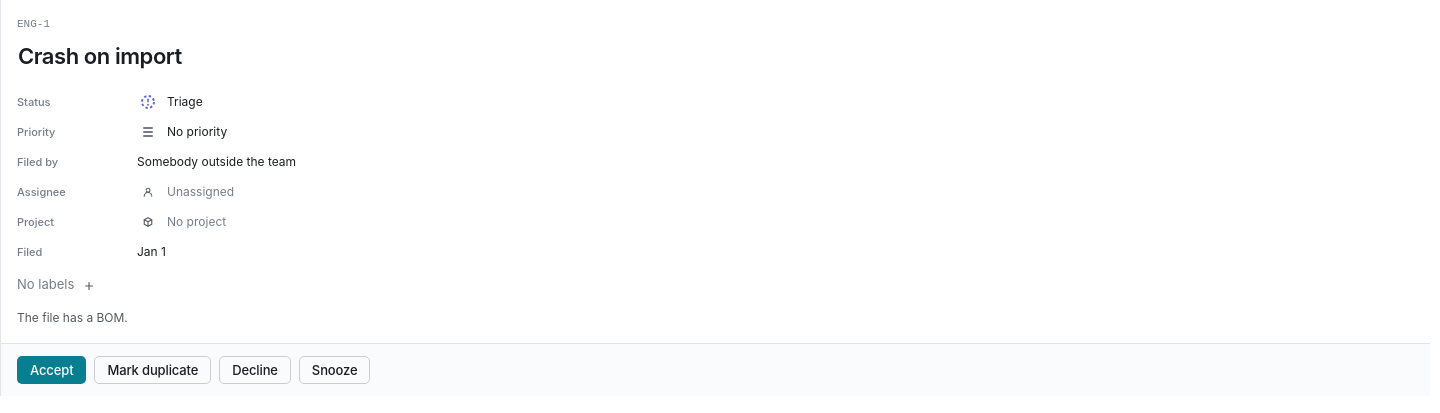
TriagePane › asks for a priority before letting work leave a team that requires one
Click the button "Accept".
click(52, 370)  # box [17, 356, 86, 384]
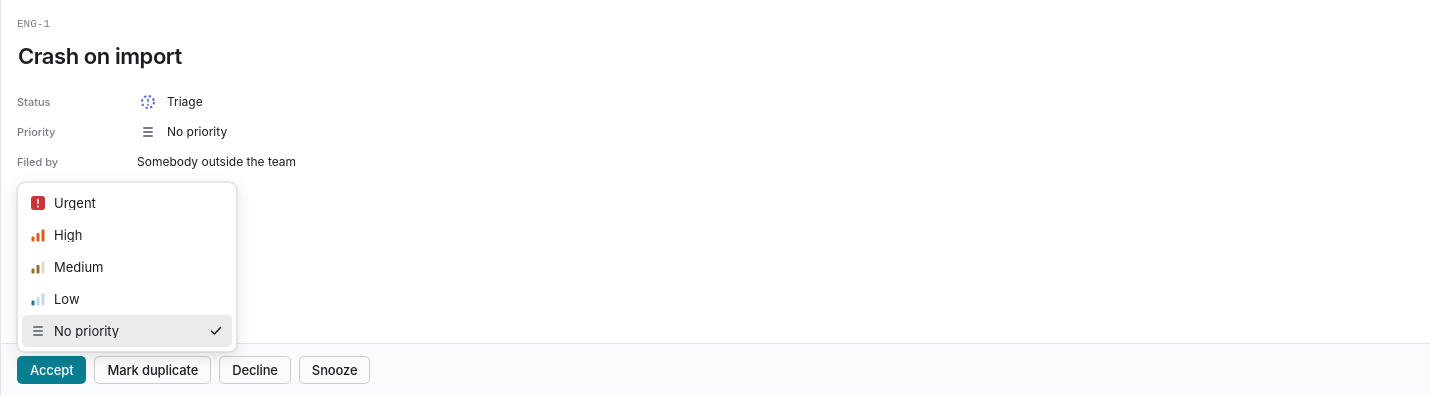
Check: the menu "priority" is shown, box [22, 187, 232, 347]
